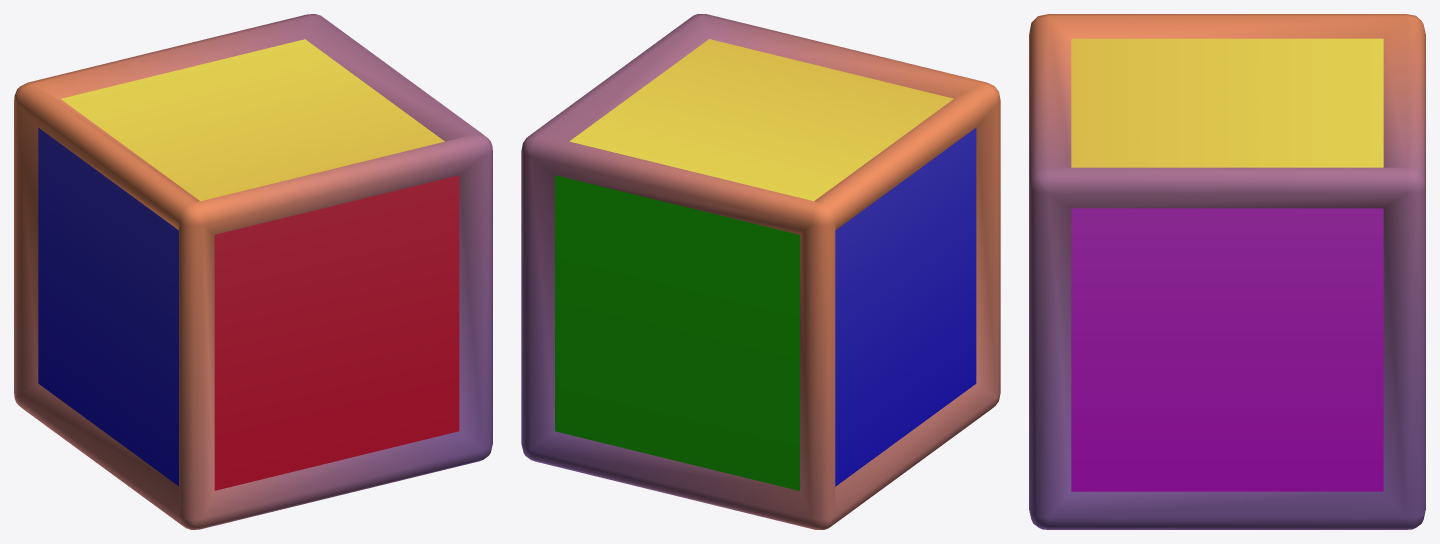
Rendered from Space_Dice.FBX.
The picture shows the model from 3 angles, left to right: view 1: azimuth 30°, elevation 25°; view 2: azimuth 150°, elevation 25°; view 3: azimuth 270°, elevation 25°; orthographic projection. The views are drawn at different scales.
Parts seen in each view (by area): view 1: Cube; view 2: Cube; view 3: Cube.
Part boxes in pixels (box(x1,y1,x2,y2)): Cube: box(14, 14, 492, 529); Cube: box(521, 14, 1000, 529); Cube: box(1029, 14, 1425, 529).
Bounding box in the file's own units: 60 × 60 × 60.
